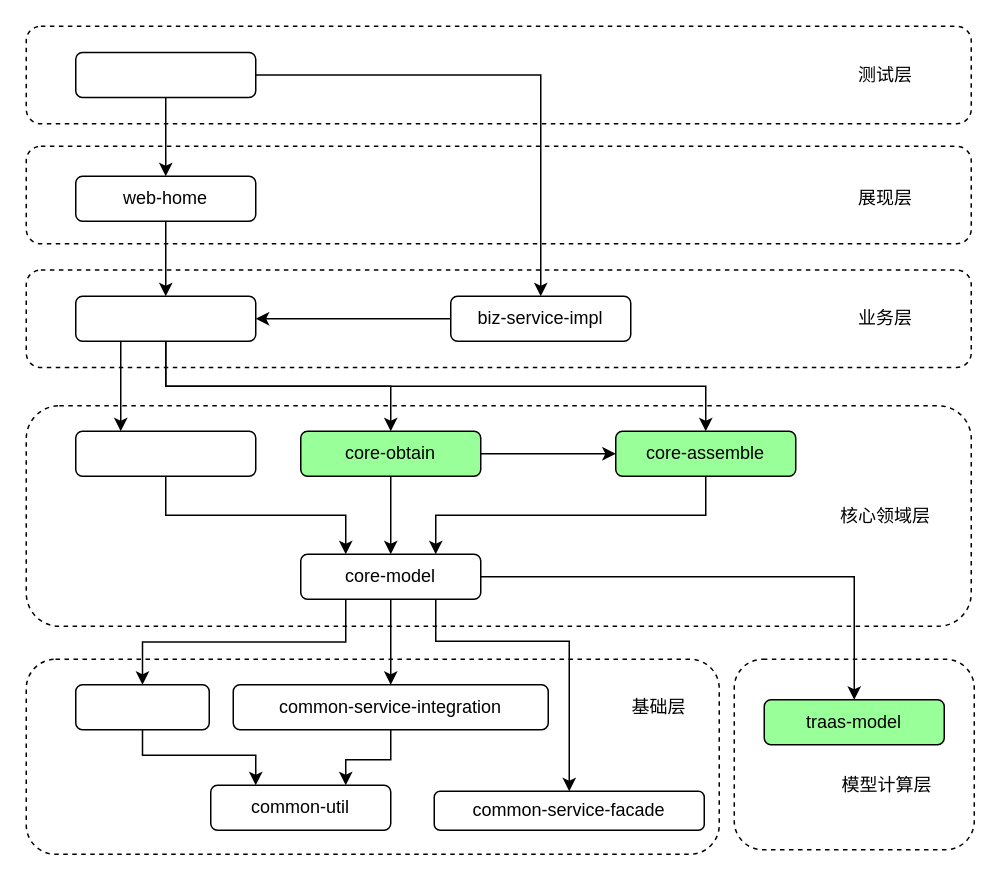
Some shapes in this 1001 by 881 pixel diagram are drawn without their labels. Here are the shapes that lost their labels. From the top down, the centre of each, then its label:
At (165,74): "test".
At (165,318): "biz-shared".
At (165,453): "core-service".
At (141,706): "common-dal".
